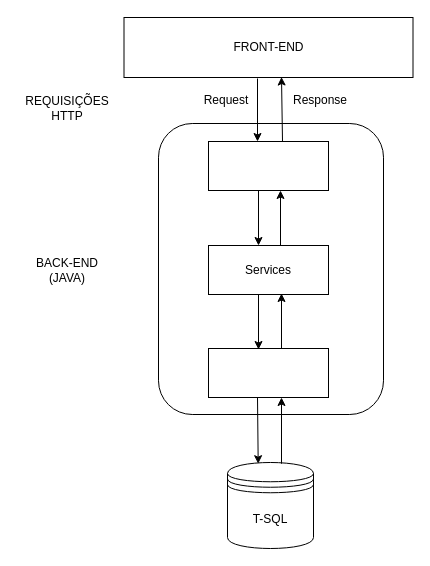
The diagram is 430 pixels wide and 566 high, and some of its shapes have lost their labels. The shapes that lost their labels are listed below. From the top down, each one's box as (x1, y1, x2, y2) in pixels, then its label:
(208, 140, 328, 190): Controllers
(208, 348, 328, 398): Repositories
